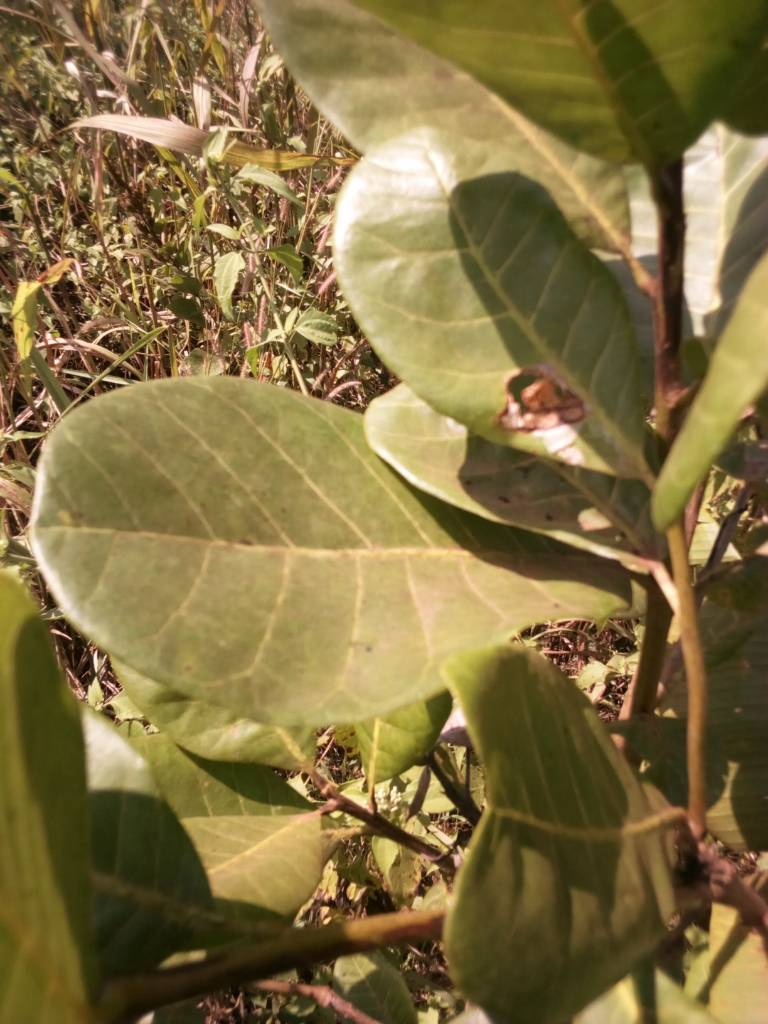Dysdercus wolkerii: (327, 110, 658, 497)
